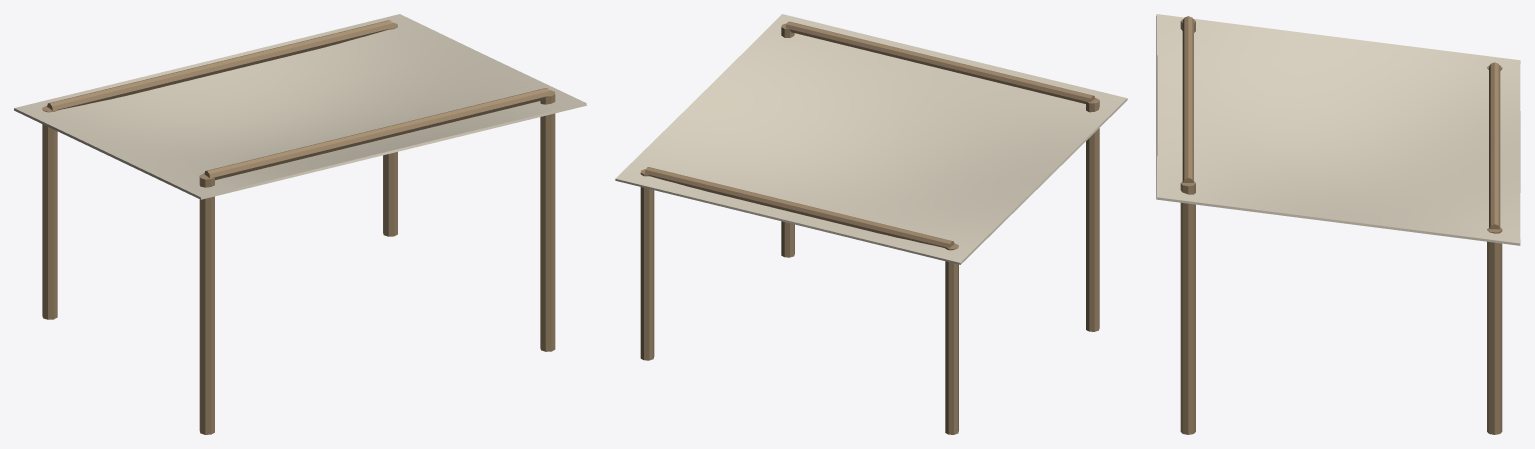
The model's file is awning.glb.
3 renders of one model, left to right at view 1: azimuth 30°, elevation 25°; view 2: azimuth 150°, elevation 25°; view 3: azimuth 270°, elevation 25°, orthographic. The views are drawn at different scales.
Parts seen in each view (by area): view 1: awning; view 2: awning; view 3: awning.
Boxes of the visible parts, x1,y1,x2,y2 form: awning: (14, 14, 586, 434); awning: (615, 14, 1127, 434); awning: (1156, 14, 1520, 434).
Bounding box in the file's own units: 3.4 × 2.2 × 2.85.
